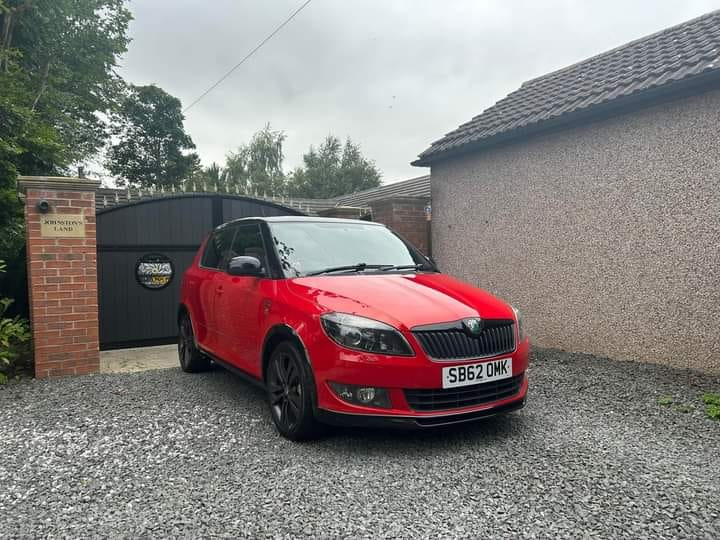number_plate: (436, 355, 516, 392)
